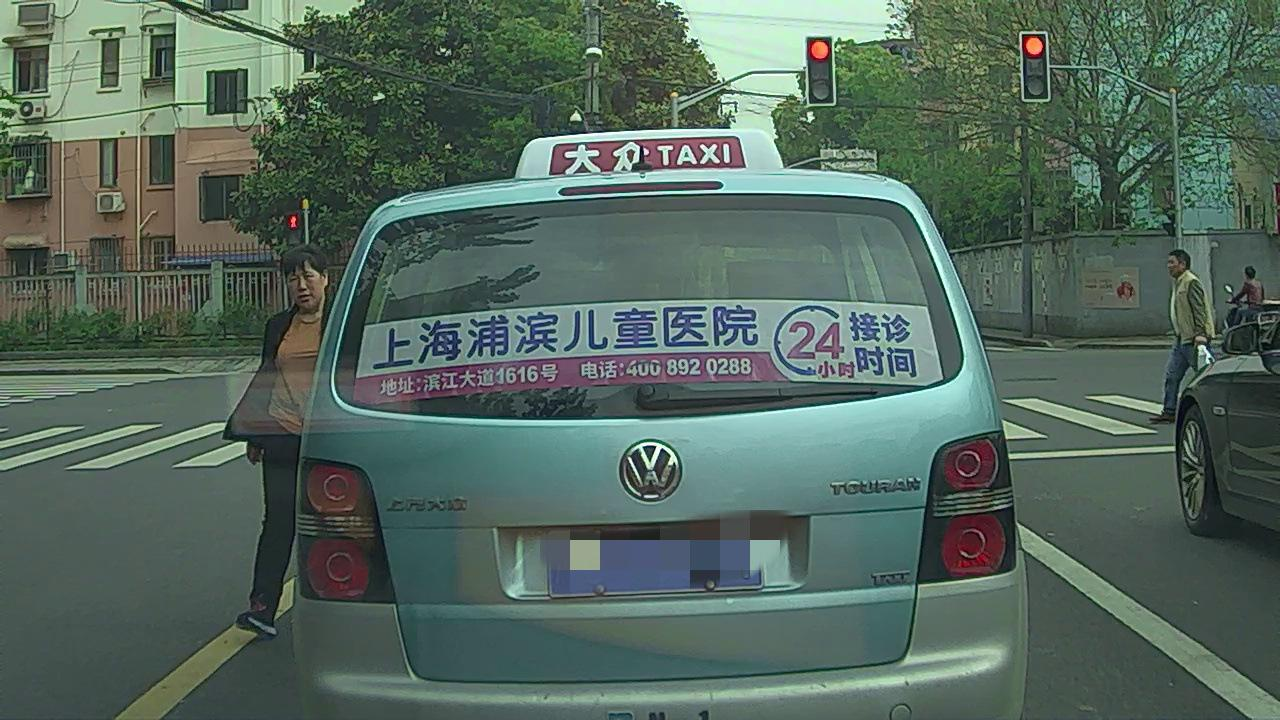traffic_light: (808, 38, 835, 105), (1023, 34, 1049, 100)
